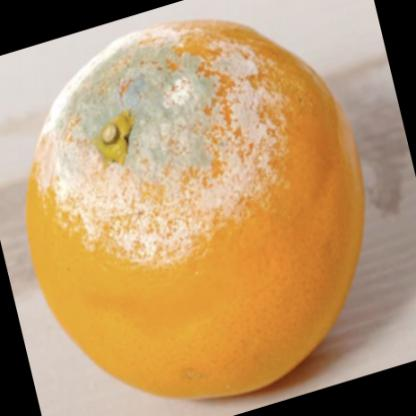rotten_orange: (12, 16, 368, 403)
